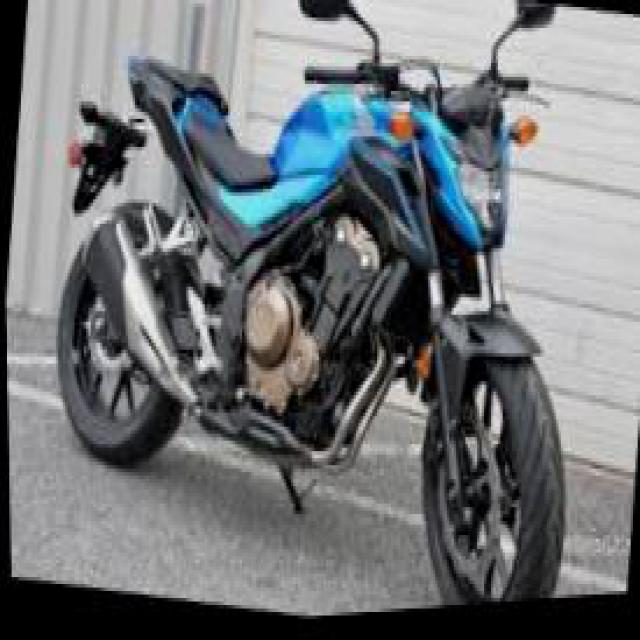CB500F: (23, 0, 605, 637)
